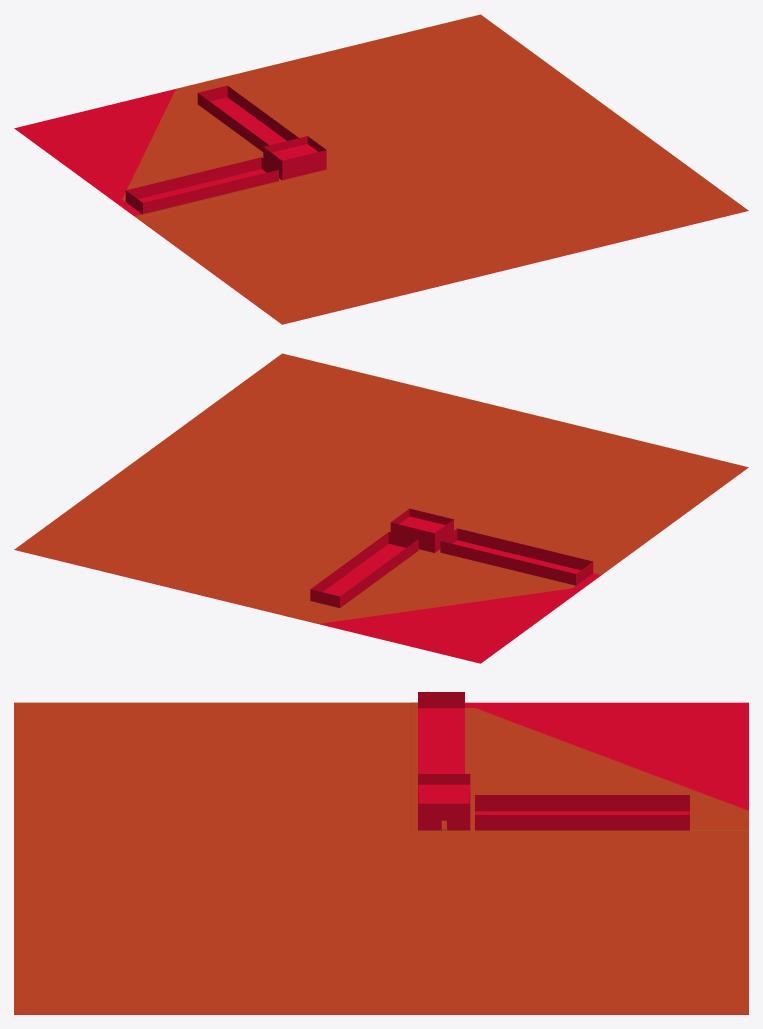
File: FMC_Colliders.fbx
The picture shows the model from 3 angles, top to bottom: view 1: azimuth 30°, elevation 25°; view 2: azimuth 150°, elevation 25°; view 3: azimuth 270°, elevation 25°; orthographic projection. The views are drawn at different scales.
Visible parts, largest first — view 1: Collider - NoTeleportBlockTerrain, Collider - NavTeleport OutsideStreet, Collider - NoTeleportWalls, Collider - NavTeleport Sidewalk; view 2: Collider - NoTeleportBlockTerrain, Collider - NavTeleport OutsideStreet, Collider - NoTeleportWalls; view 3: Collider - NoTeleportBlockTerrain, Collider - NavTeleport OutsideStreet, Collider - NoTeleportWalls, Collider - NavTeleport Sidewalk, Collider - NoTeleportCeiling.
Part boxes in pixels (x1=…): Collider - NoTeleportBlockTerrain: x1=14, y1=14, x2=748, y2=324; Collider - NavTeleport OutsideStreet: x1=123, y1=14, x2=747, y2=323; Collider - NoTeleportWalls: x1=125, y1=85, x2=326, y2=214; Collider - NavTeleport Sidewalk: x1=135, y1=80, x2=332, y2=217; Collider - NoTeleportBlockTerrain: x1=14, y1=353, x2=748, y2=663; Collider - NavTeleport OutsideStreet: x1=15, y1=353, x2=747, y2=623; Collider - NoTeleportWalls: x1=310, y1=508, x2=593, y2=608; Collider - NoTeleportBlockTerrain: x1=14, y1=702, x2=748, y2=1014; Collider - NavTeleport OutsideStreet: x1=14, y1=702, x2=748, y2=1014; Collider - NoTeleportWalls: x1=418, y1=692, x2=689, y2=830; Collider - NavTeleport Sidewalk: x1=411, y1=702, x2=748, y2=833; Collider - NoTeleportCeiling: x1=418, y1=784, x2=469, y2=803.
Bounding box in the file's own units: 19523 × 799 × 19436.
